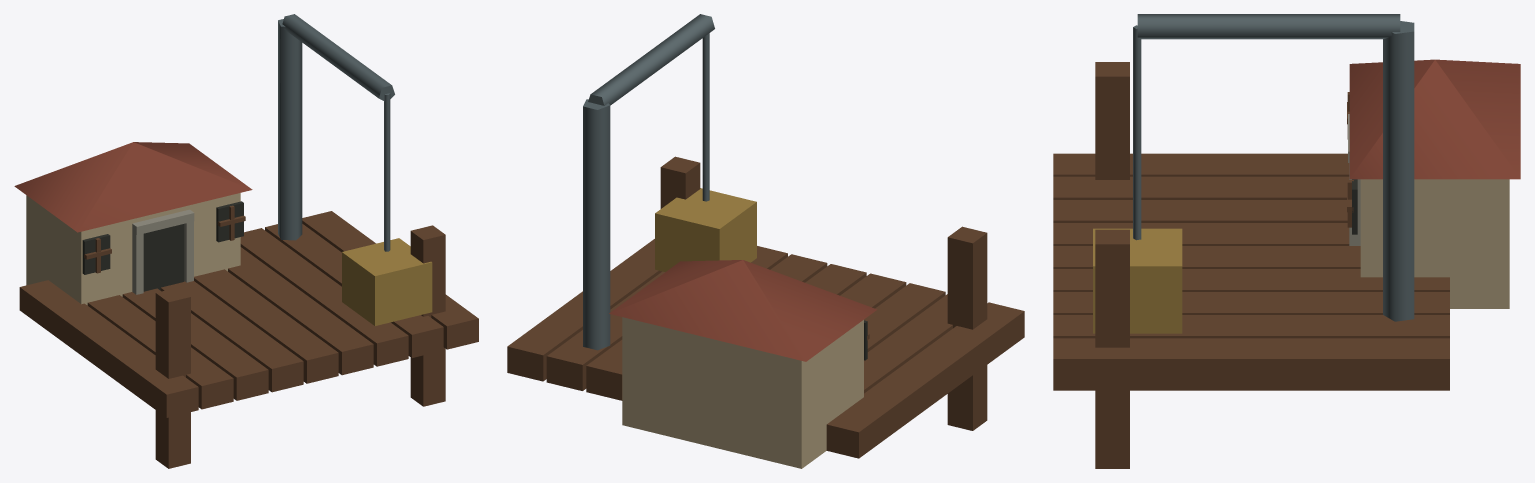
The model's file is custom-cb-harbor.glb.
3 views of the same model, side by side, from view 1: azimuth 30°, elevation 25°; view 2: azimuth 150°, elevation 25°; view 3: azimuth 270°, elevation 25° (orthographic). The views are drawn at different scales.
Parts seen in each view (by area): view 1: custom-cb-harbor; view 2: custom-cb-harbor; view 3: custom-cb-harbor.
Boxes of the visible parts, bbox=[...] form: custom-cb-harbor: bbox=[14, 14, 478, 468]; custom-cb-harbor: bbox=[507, 14, 1024, 468]; custom-cb-harbor: bbox=[1053, 14, 1520, 468].
Size of the model in its own units: 1 by 0.9611 by 0.9618.
